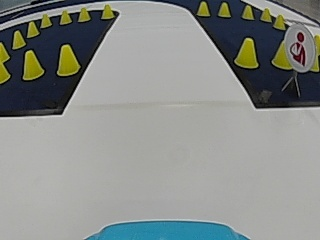cone: (234, 38, 258, 69), (56, 44, 79, 76), (22, 49, 44, 80), (272, 38, 291, 69), (0, 41, 10, 81), (12, 30, 25, 48), (100, 4, 114, 20), (27, 20, 40, 36), (272, 13, 285, 29), (196, 2, 210, 16), (218, 2, 231, 17), (78, 7, 91, 21), (59, 10, 72, 24), (40, 13, 52, 27), (242, 5, 254, 19), (260, 7, 271, 21)
patient: (288, 23, 314, 70)
